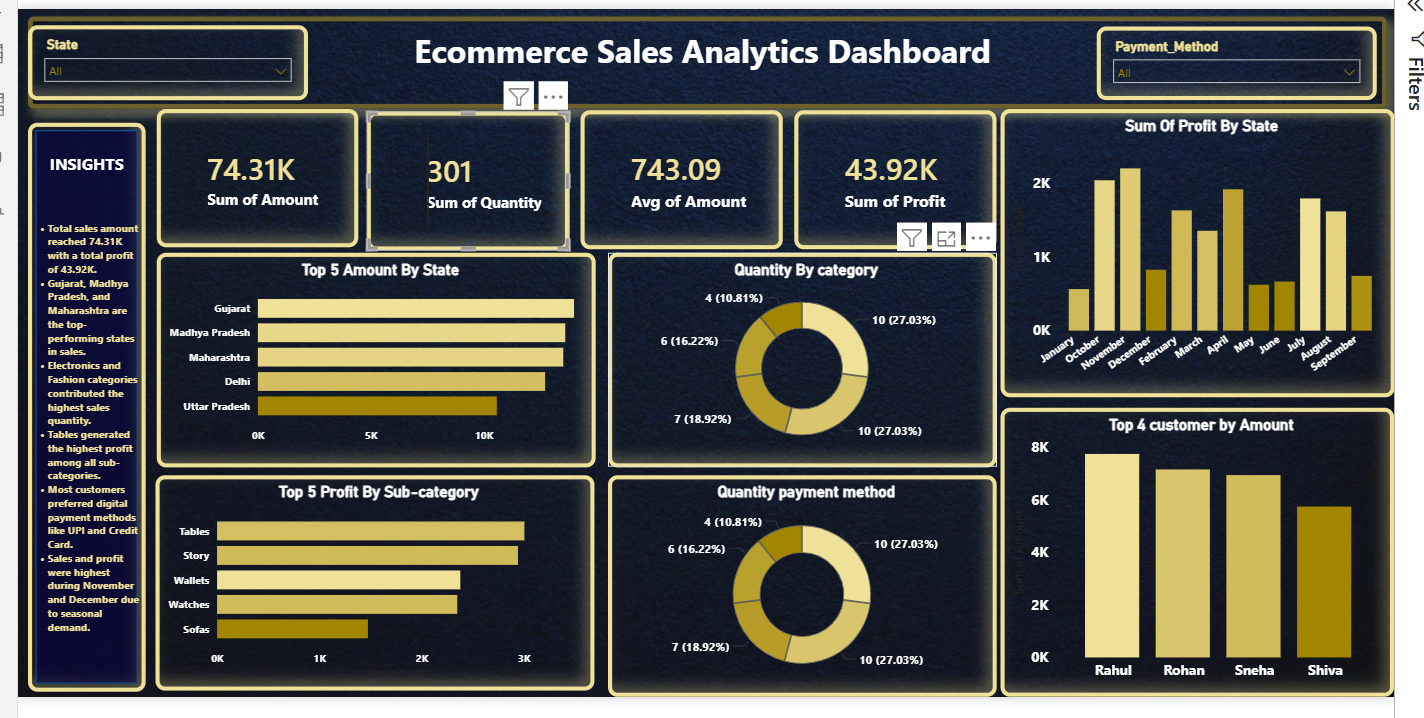

Layout of this report page (visuals, bound fields, positions):
{"tool":"powerbi","page":{"name":"Page 1","canvas":[1600,800],"ordinal":0},"visuals":[{"type":"textbox","box":[11.6,8.7,1579.9,107.6],"z":0},{"type":"cardVisual","fields":{"Data":["Sum(ecommerce_sales_dataset.Amount)"]},"box":[160.9,116.6,234.6,160.9],"z":1000},{"type":"cardVisual","fields":{"Data":["Avg(ecommerce_sales_dataset.Amount)"]},"box":[654.1,117.7,235.5,161.3],"z":2000},{"type":"cardVisual","fields":{"Data":["Sum(ecommerce_sales_dataset.Profit)"]},"box":[902.6,117.7,235.5,161.3],"z":3000},{"type":"columnChart","title":"Top 4 customer by  Amount","fields":{"Category":["ecommerce_sales_dataset.Customer_Name"],"Y":["Sum(ecommerce_sales_dataset.Amount)"]},"box":[1142.4,463.7,457.9,335.8],"z":5000},{"type":"cardVisual","fields":{"Data":["Sum(ecommerce_sales_dataset.Quantity)"]},"box":[405.5,119.2,235.5,161.3],"z":6000},{"type":"donutChart","title":"Quantity By category","fields":{"Category":["ecommerce_sales_dataset.Quantity"],"Y":["CountNonNull(ecommerce_sales_dataset.Category)"]},"box":[686.3,282.8,451.7,249.3],"z":7000},{"type":"clusteredBarChart","title":"Top 5  Amount By State","fields":{"Category":["ecommerce_sales_dataset.State"],"Y":["Sum(ecommerce_sales_dataset.Amount)"]},"box":[160.9,282.8,510.7,249.3],"z":8000},{"type":"donutChart","title":"Quantity payment method","fields":{"Category":["ecommerce_sales_dataset.Quantity"],"Y":["CountNonNull(ecommerce_sales_dataset.Payment_Method)"]},"box":[686.3,541.6,451.7,257.4],"z":9000},{"type":"clusteredBarChart","title":"Top 5 Profit By Sub-category","fields":{"Category":["ecommerce_sales_dataset.Sub_Category"],"Y":["Sum(ecommerce_sales_dataset.Profit)"]},"box":[159.9,542.2,510.2,250],"z":10000},{"type":"columnChart","title":"Sum Of Profit By State","fields":{"Category":["ecommerce_sales_dataset.Month"],"Y":["Sum(ecommerce_sales_dataset.Profit)"]},"box":[1142.1,116.6,458.4,335.1],"z":10001},{"type":"slicer","fields":{"Values":["ecommerce_sales_dataset.Payment_Method"]},"box":[1254.4,20.3,325.6,85.8],"z":10002},{"type":"slicer","fields":{"Values":["ecommerce_sales_dataset.State"]},"box":[11.6,18.9,325.6,87.2],"z":10003},{"type":"shape","box":[11.6,132.3,136.6,661.3],"z":10004},{"type":"textbox","box":[11.6,241.3,136.6,558.1],"z":10005},{"type":"textbox","box":[32,162.8,116.3,53.8],"z":10006}]}

Visuals, with their boxes in screenshot pixels (x1, y1, x2, y2), scaled from the page's 1600x800 canvas onto the 1424x718 screenshot:
textbox: <bbox>10, 8, 1416, 104</bbox>
cardVisual - Sum(ecommerce_sales_dataset.Amount): <bbox>143, 105, 352, 249</bbox>
cardVisual - Avg(ecommerce_sales_dataset.Amount): <bbox>582, 106, 792, 250</bbox>
cardVisual - Sum(ecommerce_sales_dataset.Profit): <bbox>803, 106, 1013, 250</bbox>
"Top 4 customer by  Amount" columnChart: <bbox>1017, 416, 1423, 717</bbox>
cardVisual - Sum(ecommerce_sales_dataset.Quantity): <bbox>361, 107, 570, 252</bbox>
"Quantity By category" donutChart: <bbox>611, 254, 1013, 478</bbox>
"Top 5  Amount By State" clusteredBarChart: <bbox>143, 254, 598, 478</bbox>
"Quantity payment method" donutChart: <bbox>611, 486, 1013, 717</bbox>
"Top 5 Profit By Sub-category" clusteredBarChart: <bbox>142, 487, 596, 711</bbox>
"Sum Of Profit By State" columnChart: <bbox>1016, 105, 1423, 405</bbox>
slicer - ecommerce_sales_dataset.Payment_Method: <bbox>1116, 18, 1406, 95</bbox>
slicer - ecommerce_sales_dataset.State: <bbox>10, 17, 300, 95</bbox>
shape: <bbox>10, 119, 132, 712</bbox>
textbox: <bbox>10, 217, 132, 717</bbox>
textbox: <bbox>28, 146, 132, 194</bbox>
